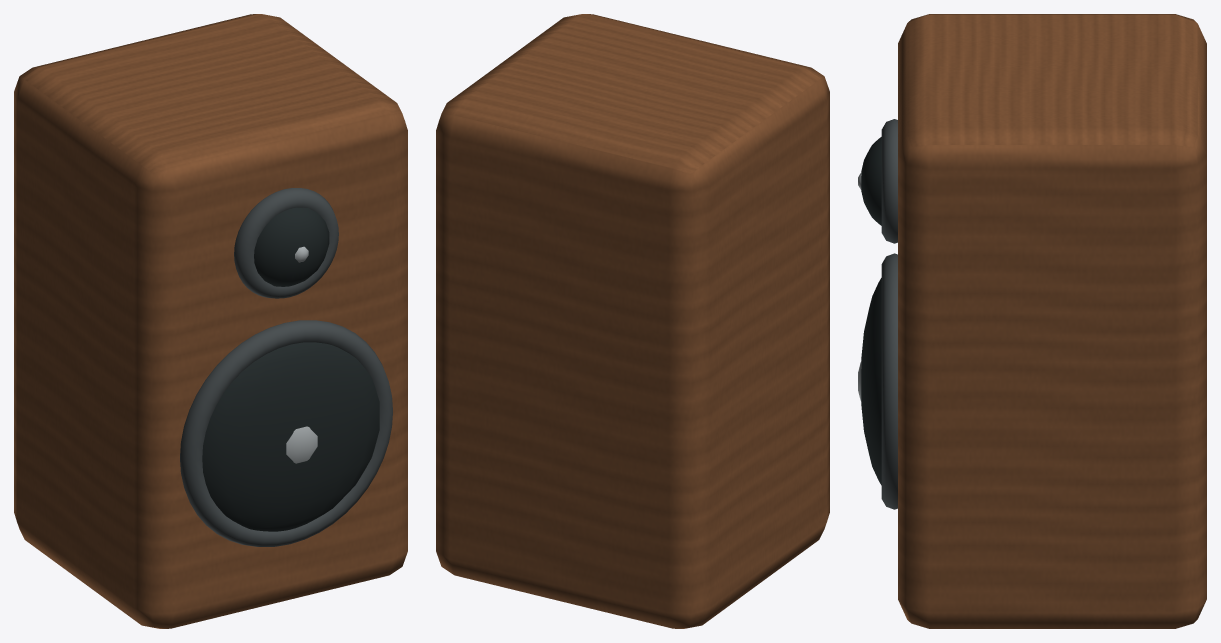
File: spk_studio_single-5b1ba76147f2.glb
3 views of the same model, side by side, from view 1: azimuth 30°, elevation 25°; view 2: azimuth 150°, elevation 25°; view 3: azimuth 270°, elevation 25° (orthographic). The views are drawn at different scales.
Visible parts, largest first — view 1: surface_walnut, surface_black, surface_graphite, surface_steel; view 2: surface_walnut; view 3: surface_walnut, surface_graphite, surface_black.
Boxes of the visible parts, x1=… form: surface_walnut: x1=14, y1=14, x2=407, y2=628; surface_black: x1=202, y1=207, x2=379, y2=531; surface_graphite: x1=180, y1=188, x2=392, y2=546; surface_steel: x1=286, y1=246, x2=317, y2=463; surface_walnut: x1=436, y1=14, x2=829, y2=628; surface_walnut: x1=898, y1=14, x2=1206, y2=628; surface_graphite: x1=881, y1=119, x2=897, y2=509; surface_black: x1=861, y1=137, x2=881, y2=485.
Size of the model in its own units: 0.125 by 0.21 by 0.1327.
4 materials, 1 textured.
